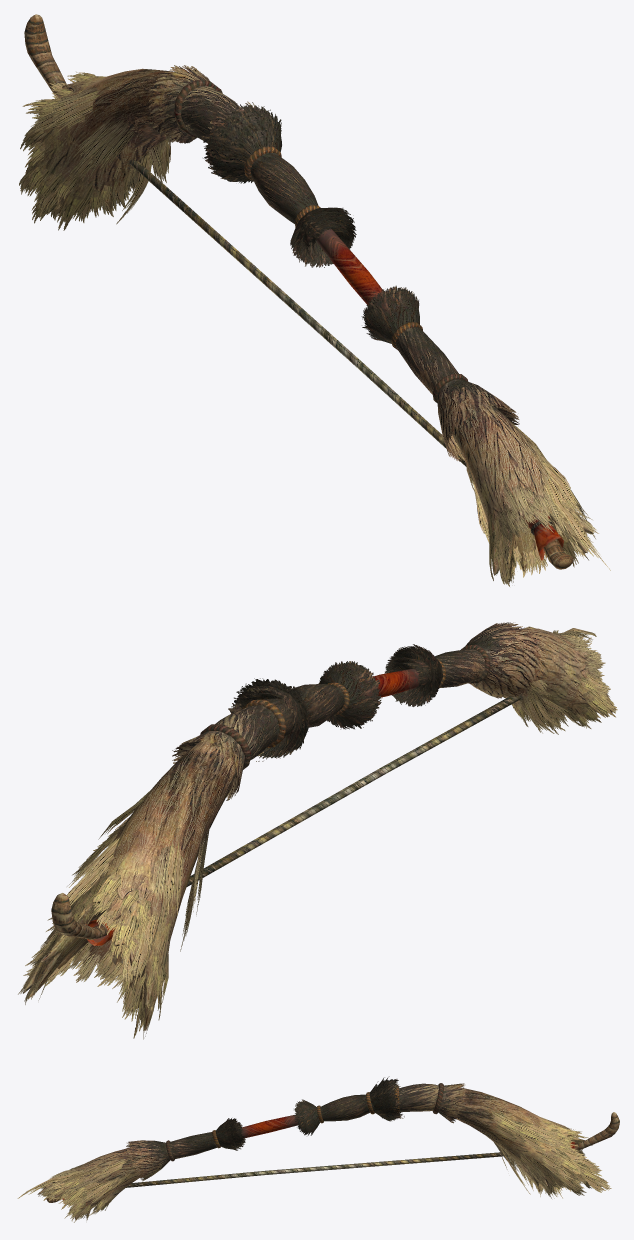
Rendered from bow021.obj.
The picture shows the model from 3 angles, top to bottom: view 1: azimuth 30°, elevation 25°; view 2: azimuth 150°, elevation 25°; view 3: azimuth 270°, elevation 25°; orthographic projection. The views are drawn at different scales.
Visible parts, largest first — view 1: bow021_002_LOD_1, bow021_003_LOD_1, bow021_006_LOD_1, bow021_009_LOD_1, bow021_014_LOD_1, bow021_004_LOD_1, bow021_011_LOD_1, bow021_000_LOD_1, bow021_005_LOD_1, bow021_001_LOD_1, bow021_010_LOD_1; view 2: bow021_003_LOD_1, bow021_002_LOD_1, bow021_006_LOD_1, bow021_014_LOD_1, bow021_009_LOD_1, bow021_004_LOD_1, bow021_000_LOD_1, bow021_013_LOD_1, bow021_008_LOD_1, bow021_007_LOD_1; view 3: bow021_003_LOD_1, bow021_002_LOD_1, bow021_006_LOD_1, bow021_014_LOD_1, bow021_007_LOD_1, bow021_011_LOD_1, bow021_004_LOD_1, bow021_012_LOD_1, bow021_000_LOD_1, bow021_008_LOD_1, bow021_009_LOD_1.
Boxes of the visible parts, x1,y1,x2,y2 form: bow021_002_LOD_1: (316, 229, 598, 586); bow021_003_LOD_1: (26, 65, 356, 267); bow021_006_LOD_1: (19, 72, 160, 230); bow021_009_LOD_1: (27, 86, 170, 184); bow021_014_LOD_1: (130, 161, 466, 466); bow021_004_LOD_1: (205, 105, 281, 181); bow021_011_LOD_1: (510, 422, 610, 570); bow021_000_LOD_1: (24, 14, 66, 95); bow021_005_LOD_1: (219, 120, 281, 183); bow021_001_LOD_1: (526, 516, 573, 569); bow021_010_LOD_1: (113, 154, 151, 224); bow021_003_LOD_1: (23, 661, 381, 1030); bow021_002_LOD_1: (373, 622, 617, 734); bow021_006_LOD_1: (18, 872, 168, 1039); bow021_014_LOD_1: (186, 695, 521, 886); bow021_009_LOD_1: (154, 824, 210, 951); bow021_004_LOD_1: (234, 678, 308, 758); bow021_000_LOD_1: (51, 893, 114, 945); bow021_013_LOD_1: (518, 680, 567, 733); bow021_008_LOD_1: (67, 837, 119, 905); bow021_007_LOD_1: (72, 790, 150, 876); bow021_003_LOD_1: (294, 1079, 603, 1193); bow021_002_LOD_1: (37, 1114, 298, 1222); bow021_006_LOD_1: (514, 1125, 611, 1198); bow021_014_LOD_1: (126, 1152, 507, 1187); bow021_007_LOD_1: (490, 1111, 552, 1151); bow021_011_LOD_1: (17, 1159, 127, 1198); bow021_004_LOD_1: (371, 1076, 399, 1121); bow021_012_LOD_1: (58, 1172, 131, 1207); bow021_000_LOD_1: (570, 1112, 619, 1150); bow021_008_LOD_1: (526, 1124, 578, 1152); bow021_009_LOD_1: (494, 1142, 525, 1187).
Bounding box in the file's own units: 46.54 × 92.09 × 353.
